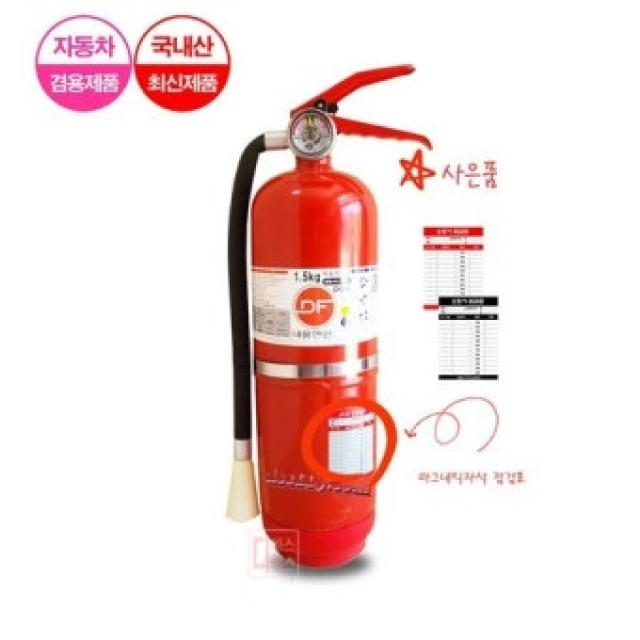pressure gauge: (288, 110, 336, 159)
